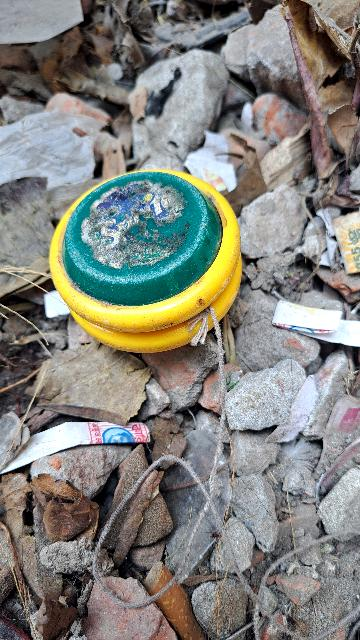hardplastic: (33, 159, 265, 365)
